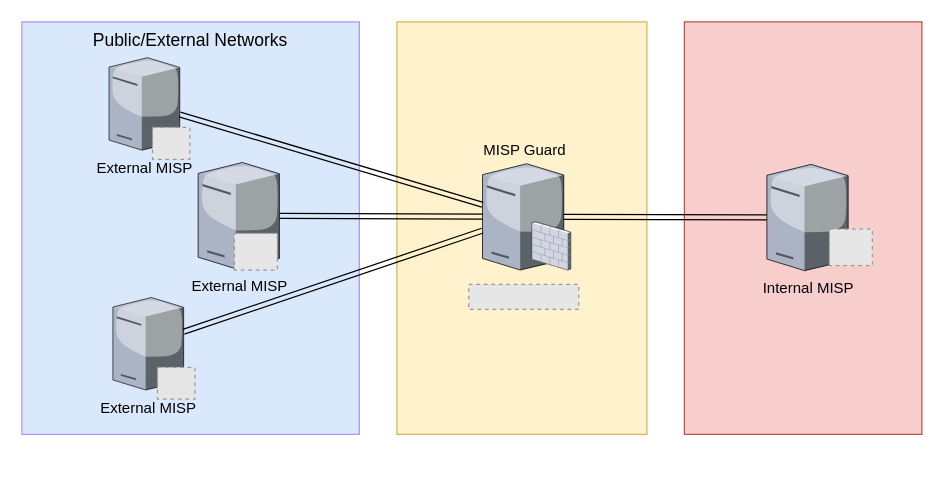
Some shapes in this 944 by 478 pixel diagram are drawn without their labels. Grey dashed boxes stand in for pictures. Here are the shapes that lost their labels. From the top down, the box of each, then its label:
(396, 21, 647, 434): DMZ
(683, 21, 922, 434): Intranet
